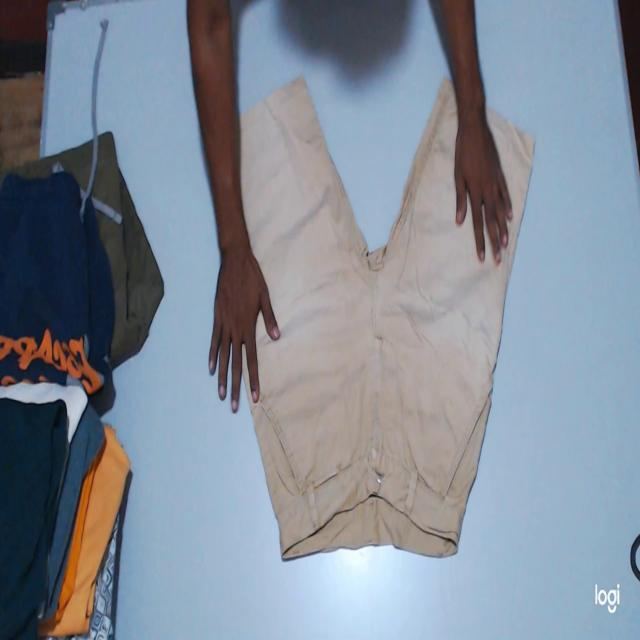new-garment: (242, 78, 533, 556)
